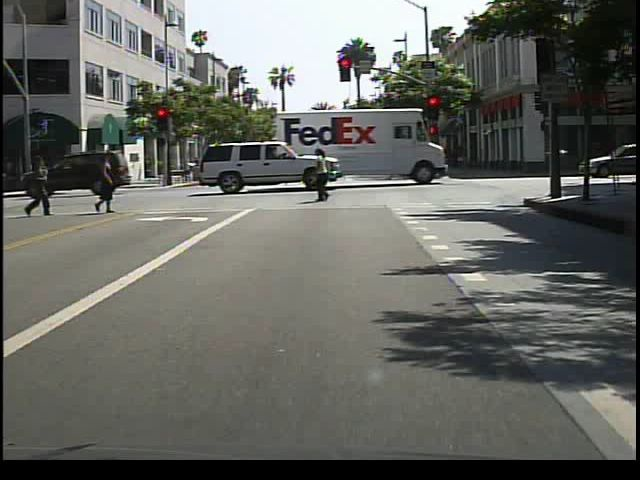person: (29, 153, 60, 217), (309, 146, 341, 206), (93, 153, 121, 216)
